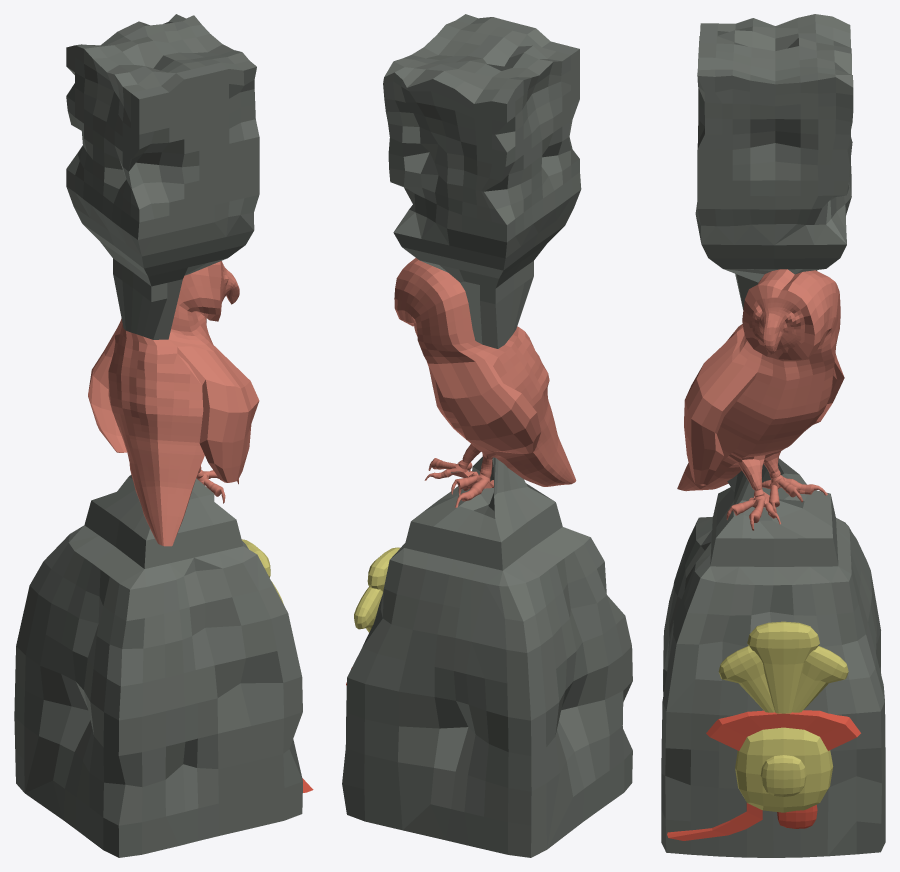
File: owl_col.fbx
3 views of the same model, side by side, from view 1: azimuth 30°, elevation 25°; view 2: azimuth 150°, elevation 25°; view 3: azimuth 270°, elevation 25° (orthographic). The views are drawn at different scales.
Parts seen in each view (by area): view 1: Owl_Column; view 2: Owl_Column; view 3: Owl_Column.
Boxes of the visible parts, x1,y1,x2,y2 form: Owl_Column: (14, 14, 313, 857); Owl_Column: (342, 14, 632, 857); Owl_Column: (661, 14, 885, 857).
Size of the model in its own units: 524 by 1714 by 455.
